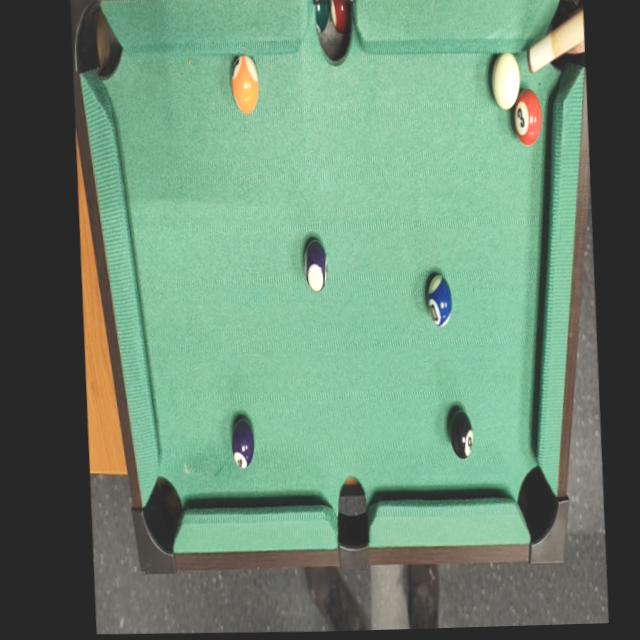cue ball: (486, 50, 524, 114)
other: (509, 86, 545, 151), (226, 51, 261, 114), (423, 267, 454, 329), (299, 238, 332, 293), (445, 404, 476, 461), (228, 415, 256, 473)
